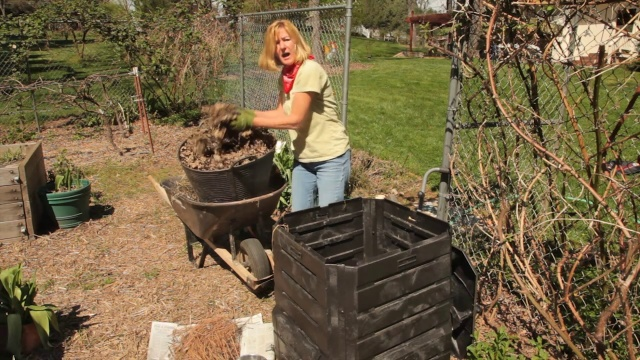person: (197, 18, 354, 227)
